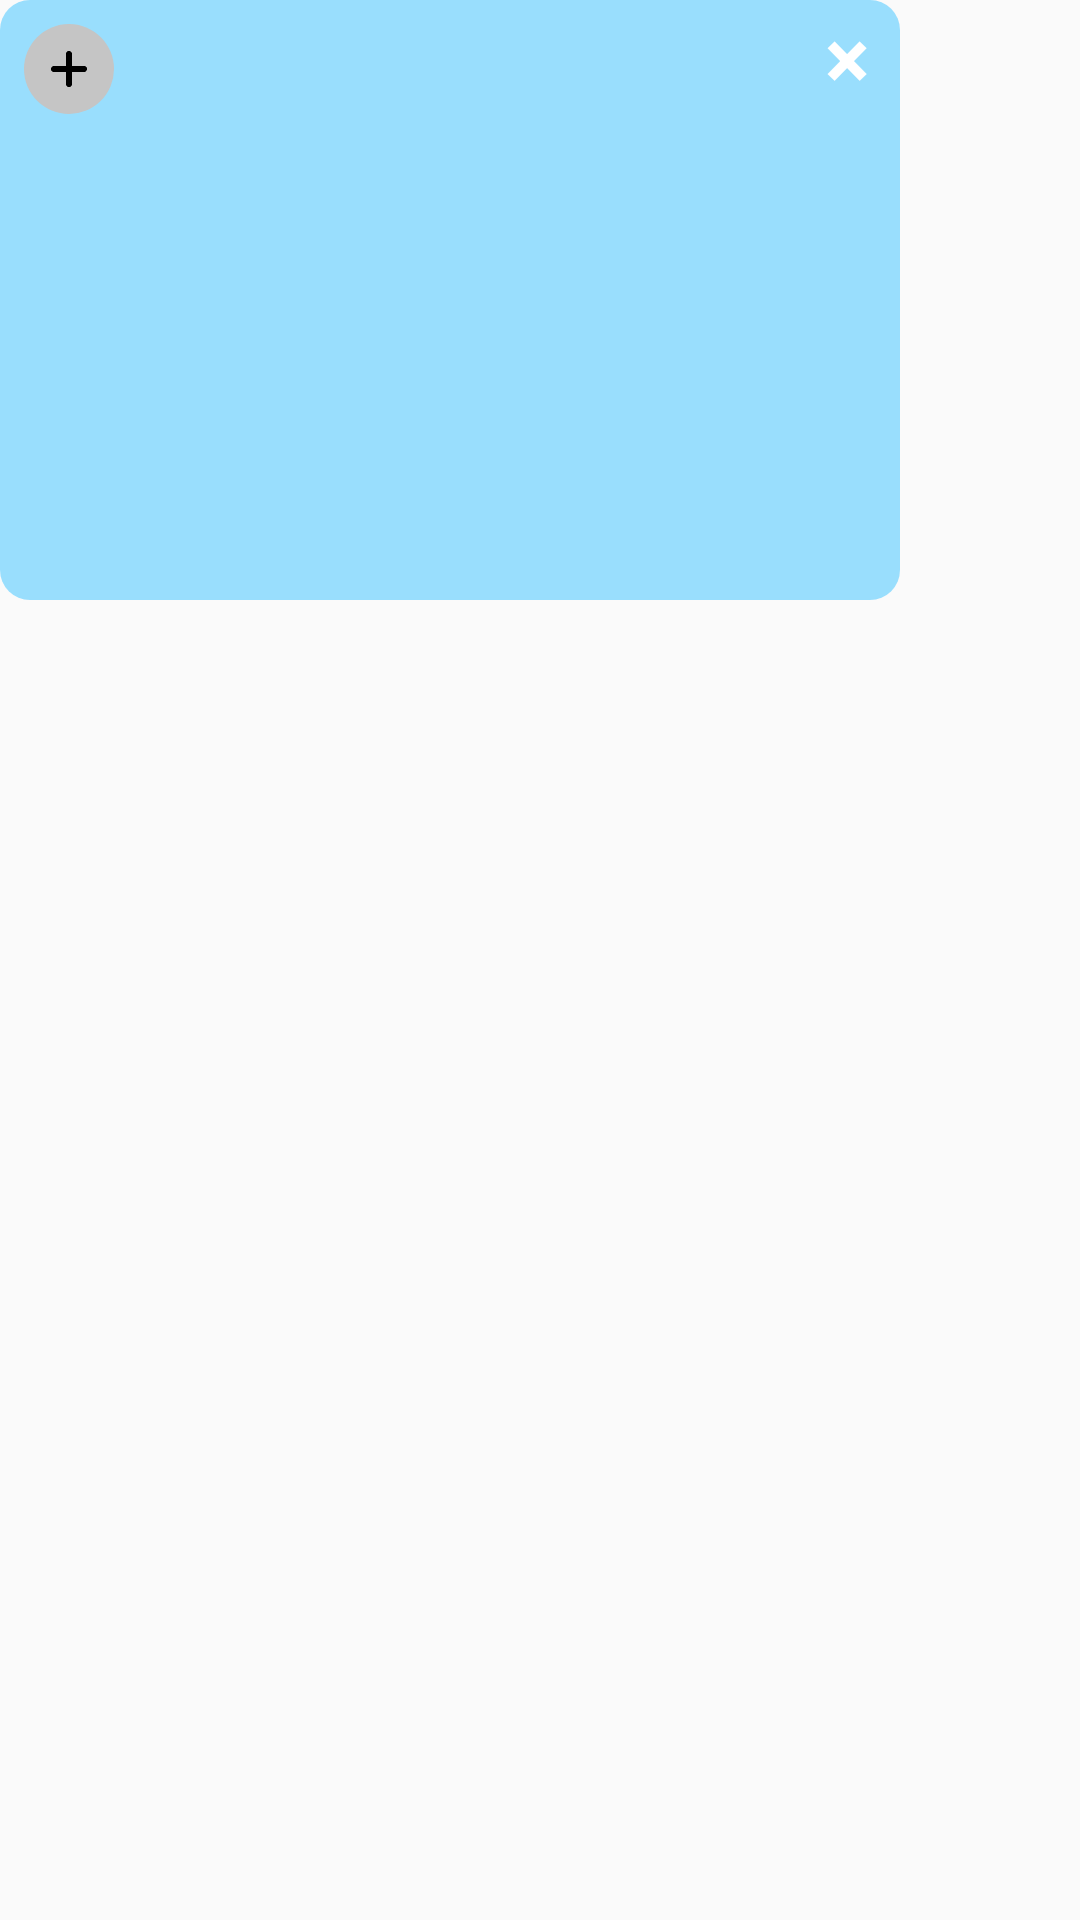

Screen size 1080px x 1920px. Icon name, then its center in pixels as [x,y]:
add: [69,69]
